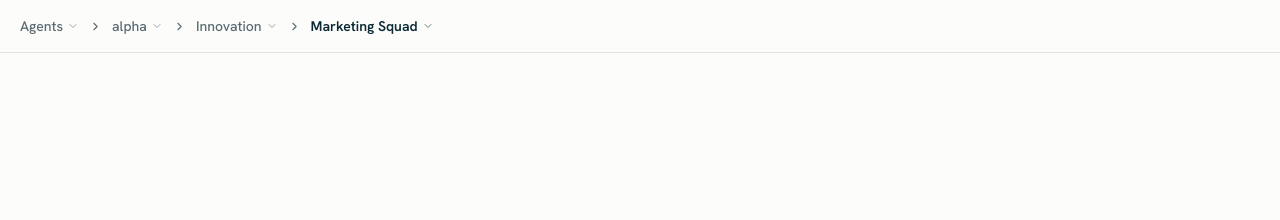
Test case: Breadcrumb — changing a level › opens the level's siblings when its segment is clicked
Click the button "alpha": (137, 26) [104, 4, 171, 48]
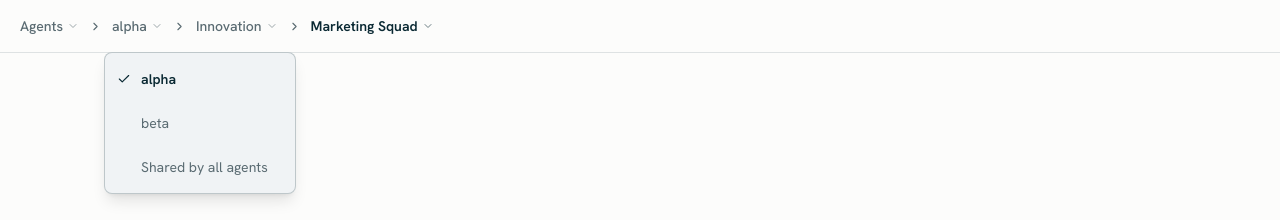
Check: the menu is shown, box [104, 52, 296, 194]
